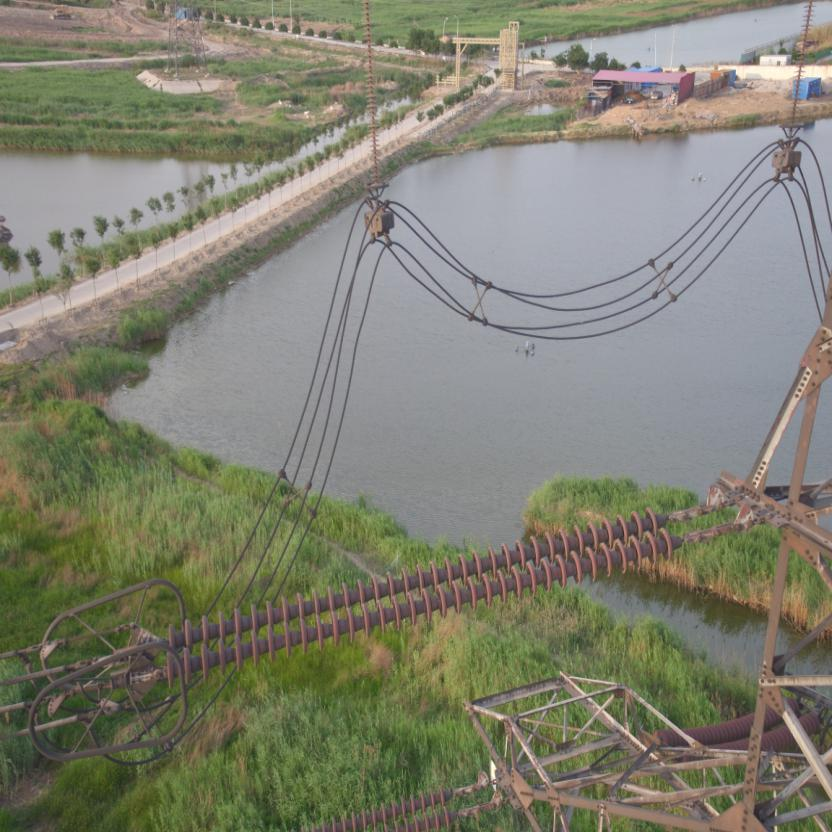insulator: (148, 503, 704, 693)
